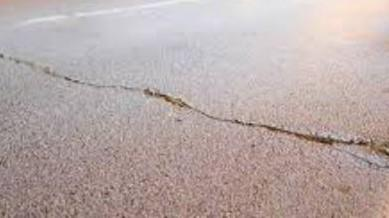crack: (0, 51, 389, 168)
